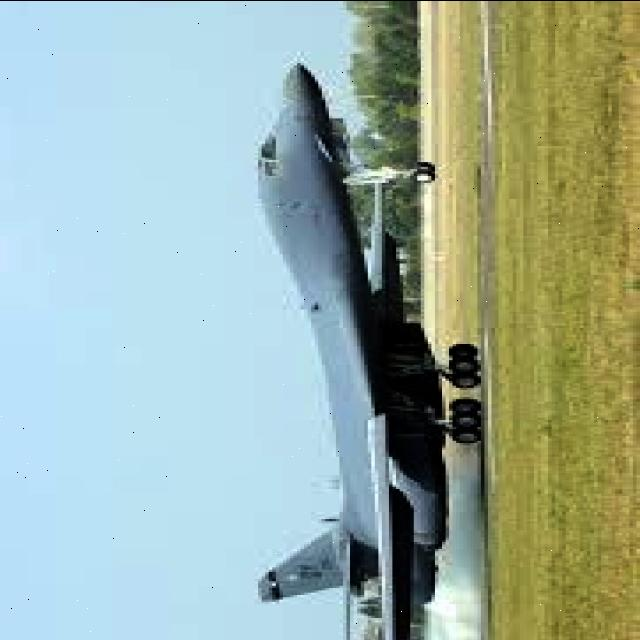B1: (100, 54, 534, 640)
